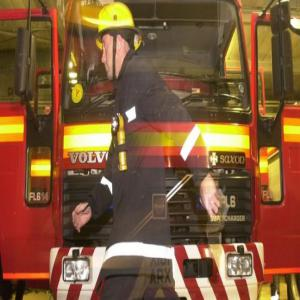yellow: (99, 3, 137, 82)
